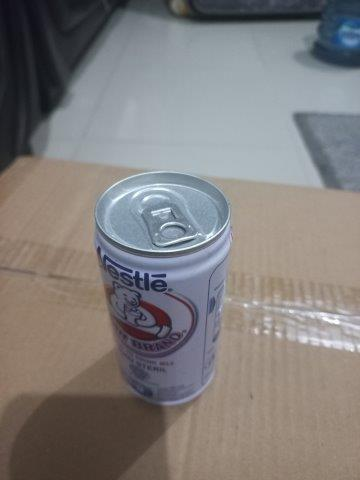kaleng: (95, 170, 233, 405)
kardus: (1, 155, 360, 480)
